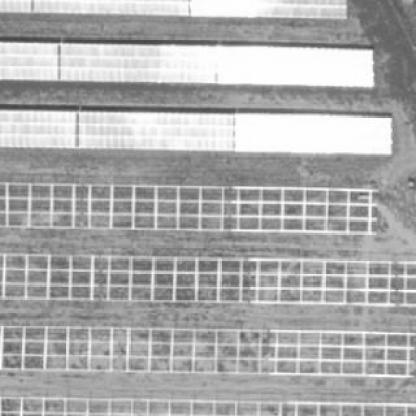solar-pv-panel: (234, 115, 391, 154), (216, 47, 373, 86), (78, 112, 234, 151), (60, 44, 216, 83), (191, 0, 347, 19), (0, 111, 76, 148), (33, 0, 187, 15), (0, 43, 58, 80), (0, 0, 31, 12)
